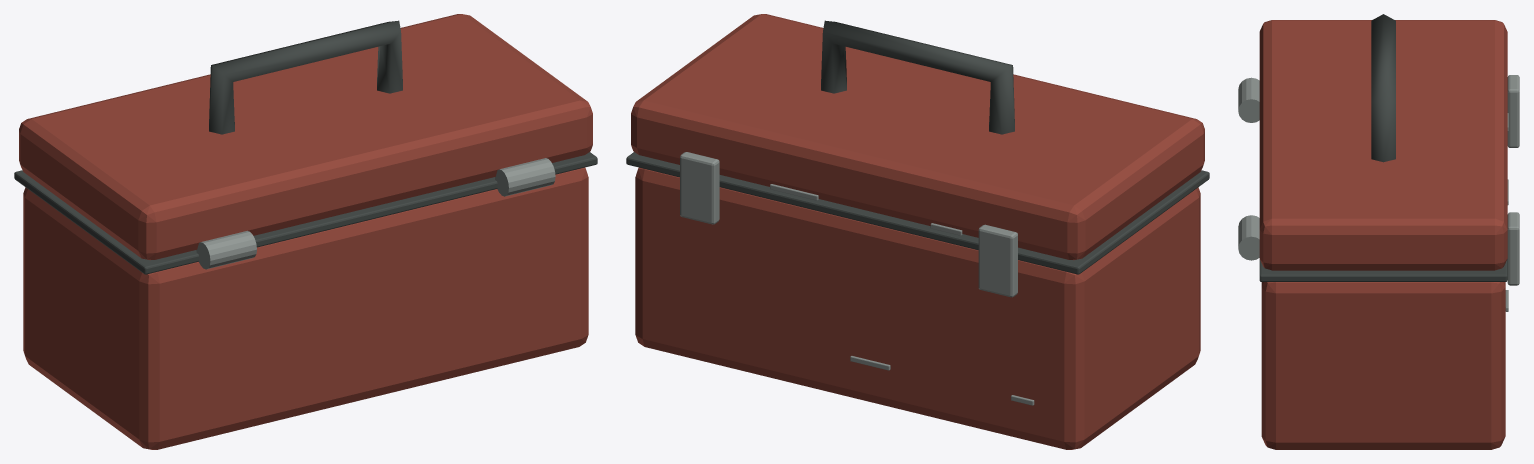
File: steel_toolbox.gltf
The picture shows the model from 3 angles, left to right: view 1: azimuth 30°, elevation 25°; view 2: azimuth 150°, elevation 25°; view 3: azimuth 270°, elevation 25°; orthographic projection. The views are drawn at different scales.
Parts seen in each view (by area): view 1: steel_toolbox__paint_red, steel_toolbox__dark_steel, steel_toolbox__steel; view 2: steel_toolbox__paint_red, steel_toolbox__dark_steel, steel_toolbox__steel; view 3: steel_toolbox__paint_red, steel_toolbox__dark_steel, steel_toolbox__steel.
Part boxes in pixels (x1,y1,x2,y2): steel_toolbox__paint_red: (19,14,592,449); steel_toolbox__dark_steel: (14,20,597,274); steel_toolbox__steel: (196,158,555,269); steel_toolbox__paint_red: (631,14,1204,449); steel_toolbox__dark_steel: (626,20,1209,274); steel_toolbox__steel: (680,152,1034,405); steel_toolbox__paint_red: (1259,20,1507,449); steel_toolbox__dark_steel: (1259,14,1507,281); steel_toolbox__steel: (1238,75,1519,311).
Bounding box in the file's own units: 2.43 × 1.6 × 1.38.
